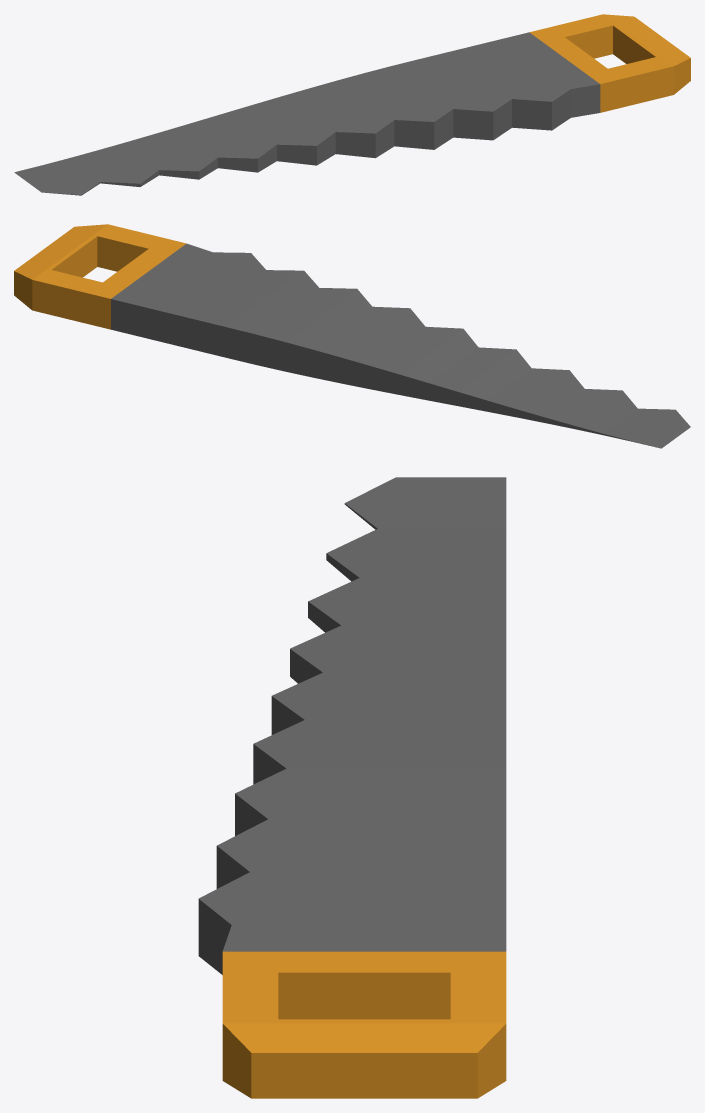
Rendered from Handsaw.fbx.
3 renders of one model, top to bottom at view 1: azimuth 30°, elevation 25°; view 2: azimuth 150°, elevation 25°; view 3: azimuth 270°, elevation 25°, orthographic. The views are drawn at different scales.
Visible parts, largest first — view 1: HandSaw; view 2: HandSaw; view 3: HandSaw.
Part boxes in pixels (x1,y1,x2,y2): HandSaw: (14, 14, 690, 195); HandSaw: (14, 224, 690, 448); HandSaw: (198, 477, 506, 1098).
Size of the model in its own units: 154 by 6.88 by 33.43.
